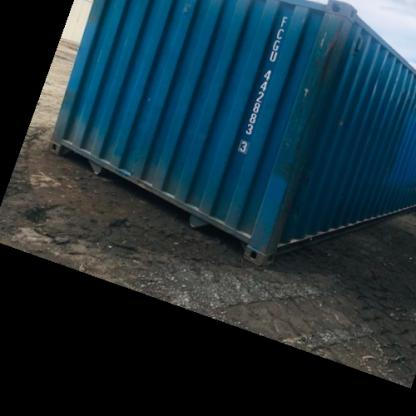Damage: (314, 21, 346, 95), (367, 72, 415, 114), (293, 82, 311, 100)
